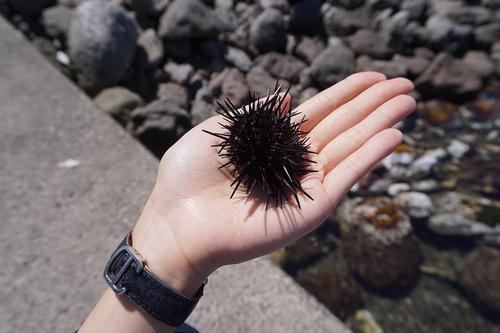urchin: (202, 85, 328, 210)
